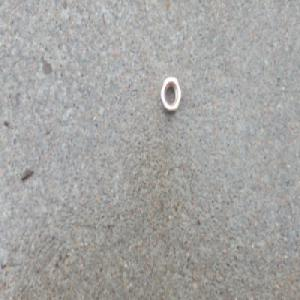Nut: (160, 76, 182, 115)
